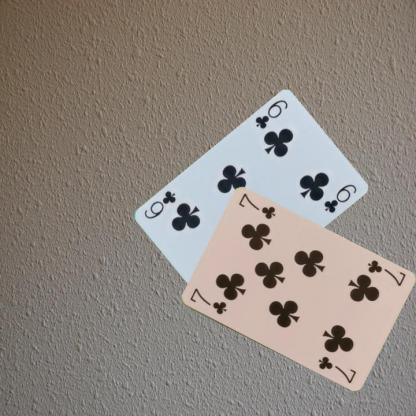6c: (252, 97, 290, 131)
7c: (364, 257, 407, 288), (186, 285, 228, 316)
